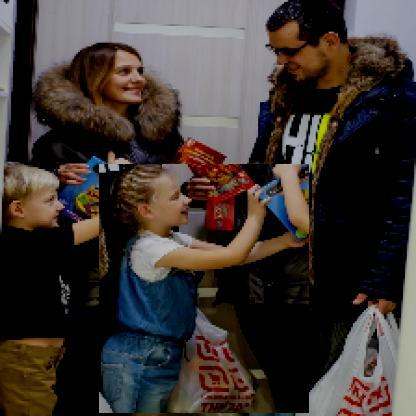child: (100, 165, 311, 415), (1, 149, 141, 416)
